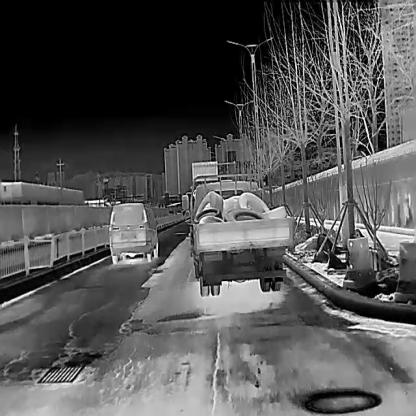car: (108, 202, 158, 264)
truck: (190, 174, 294, 296)
